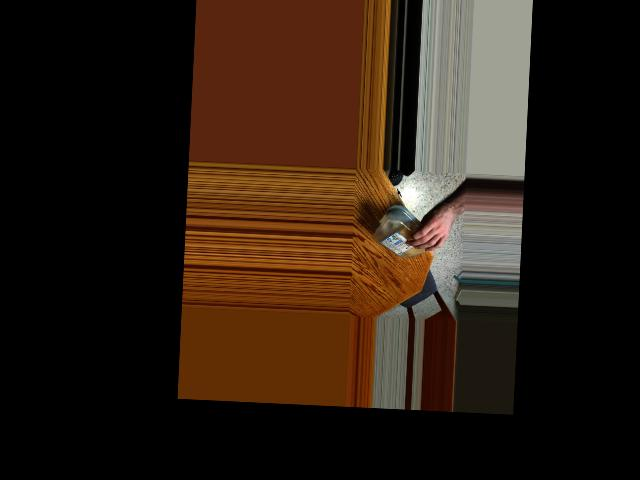cheese: (371, 207, 440, 260)
